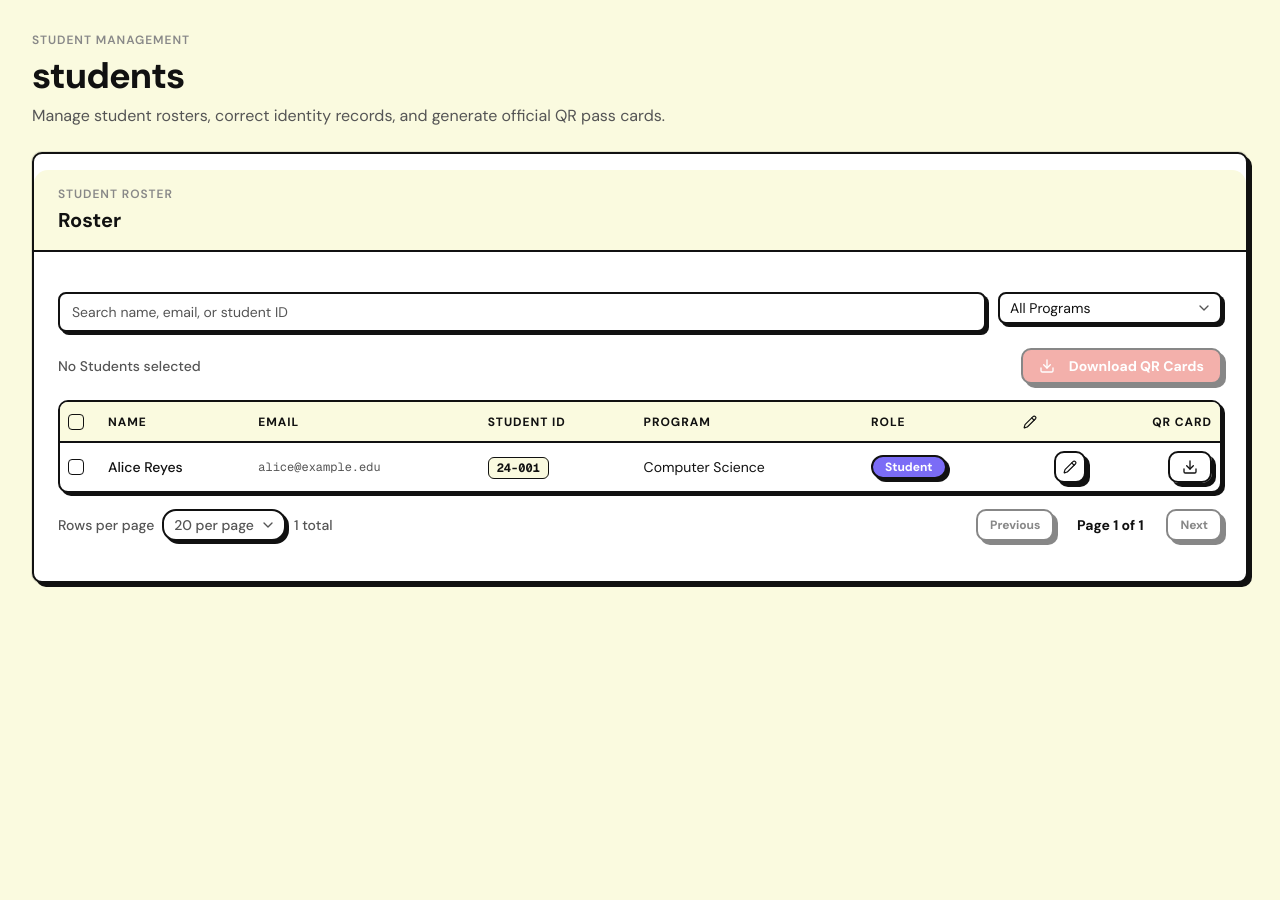
Scenario: QR Card invalidation confirmation (spec #143) › shows the confirmation modal before applying a Student ID correction
Click the button named "Edit student".
click(1070, 467)  # box [1054,451,1086,483]
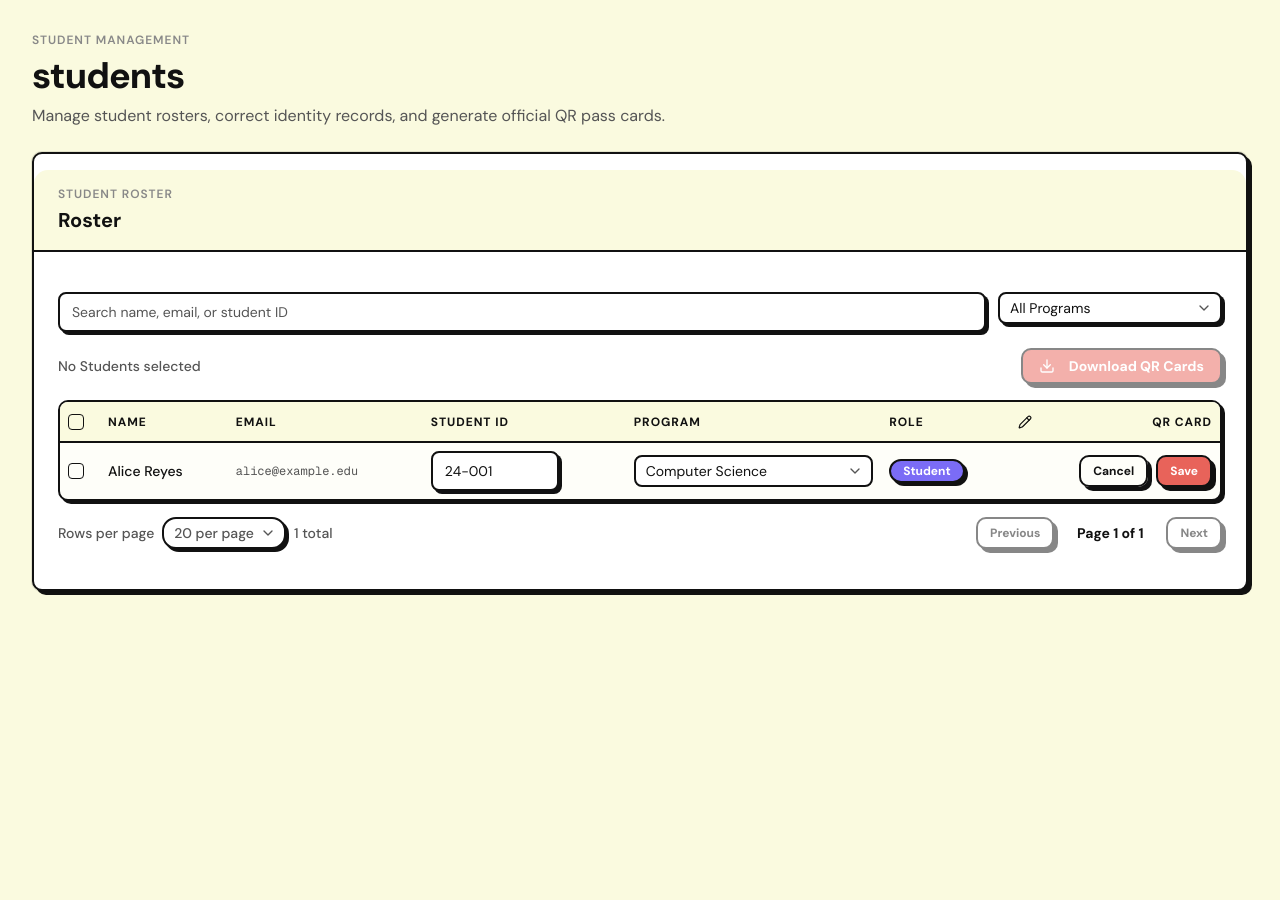
Replace the text in the field showing "24-001" with "24-002" at (495, 471), box [431,451,559,491]
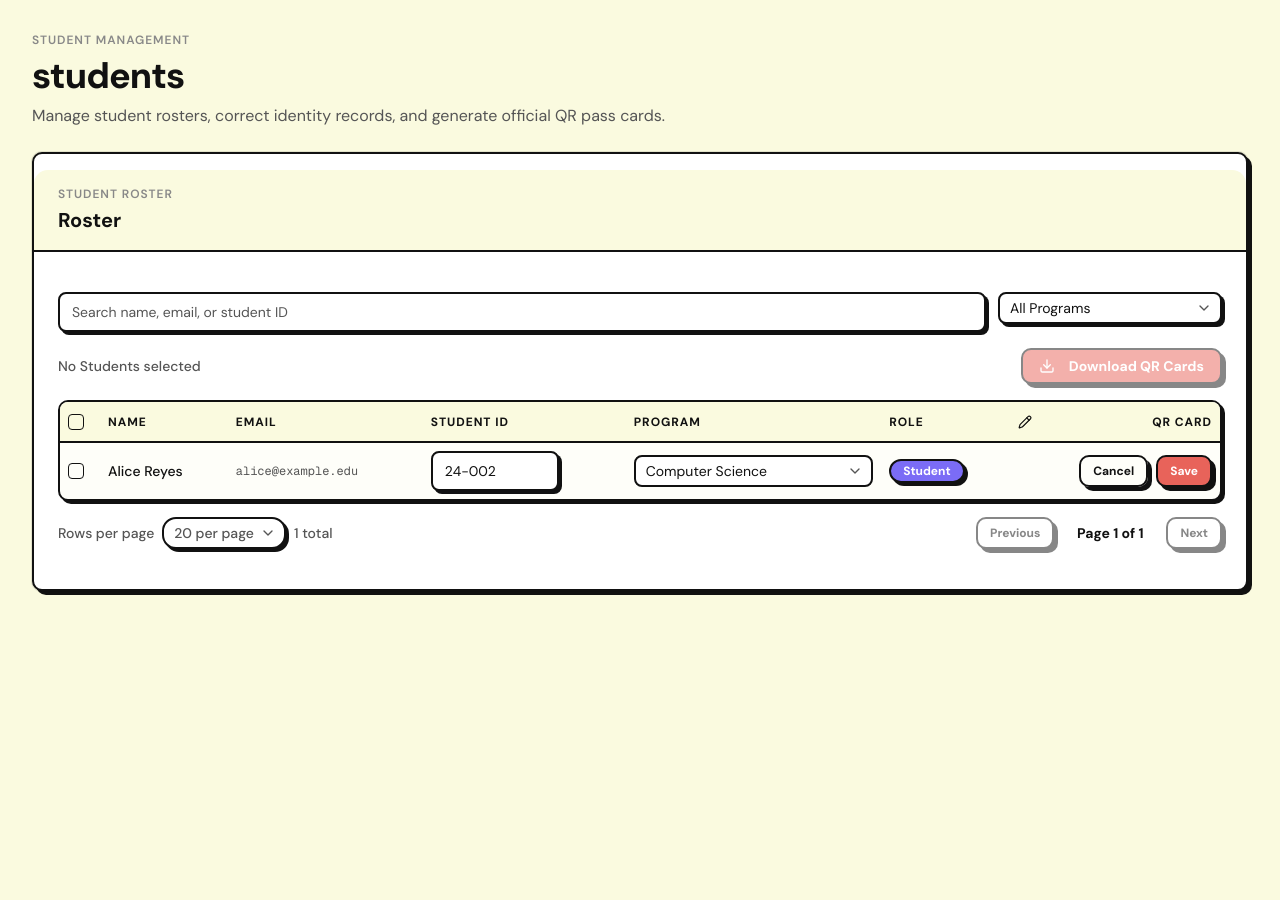
Click the button "Save".
click(1184, 471)  # box [1156,455,1212,487]
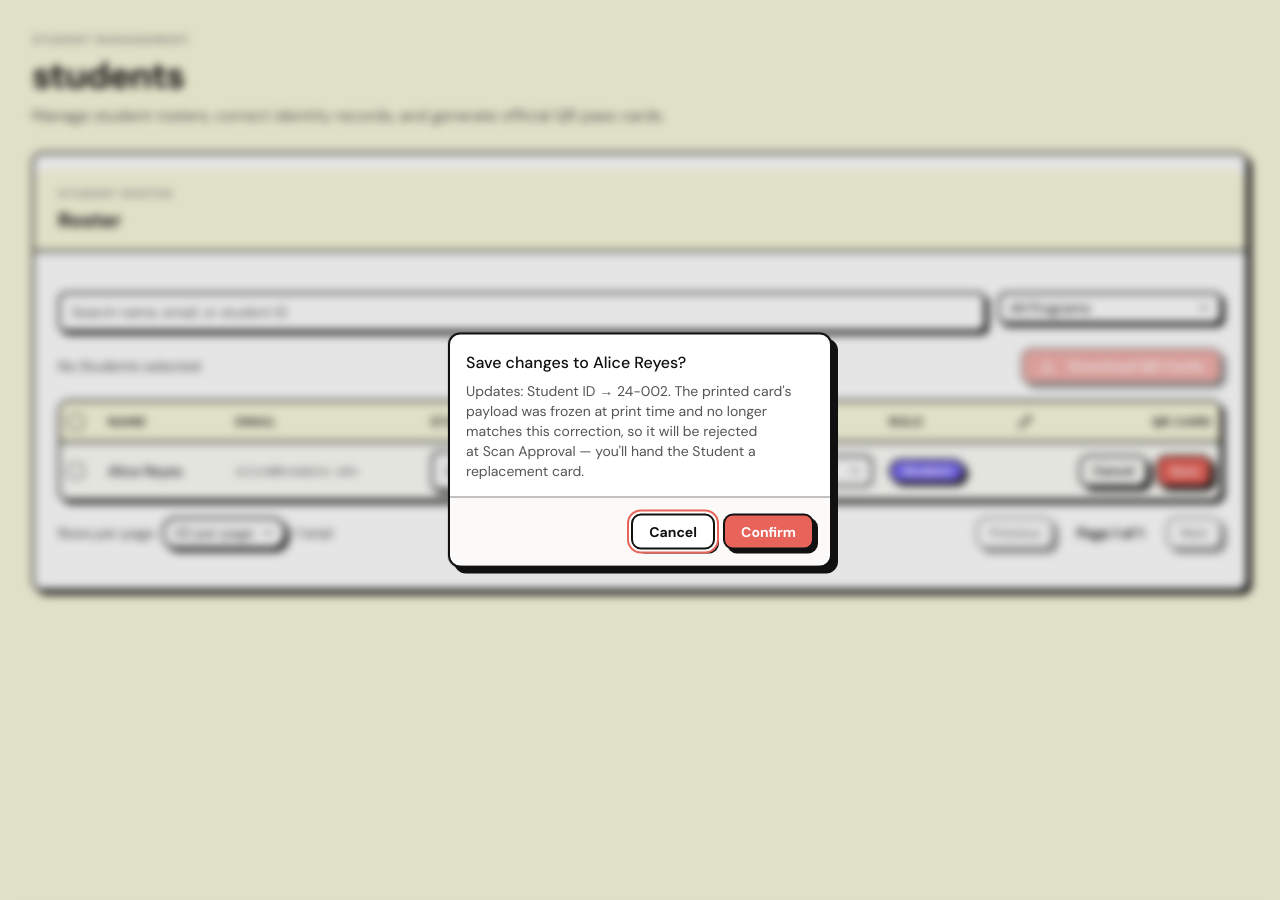
Check: the heading "Save changes to Alice Reyes?" is shown, box [466,350,686,374]
Check: the text "will be rejected at Scan Approval" is shown, box [466,382,792,480]
